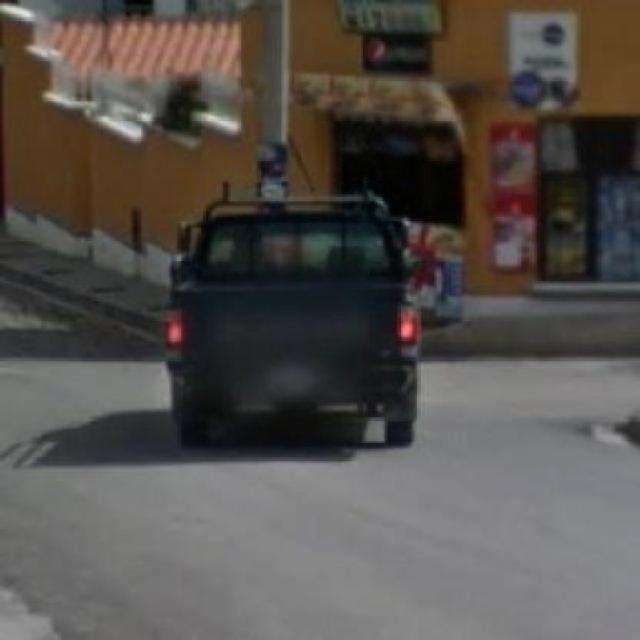car: (176, 204, 427, 432)
